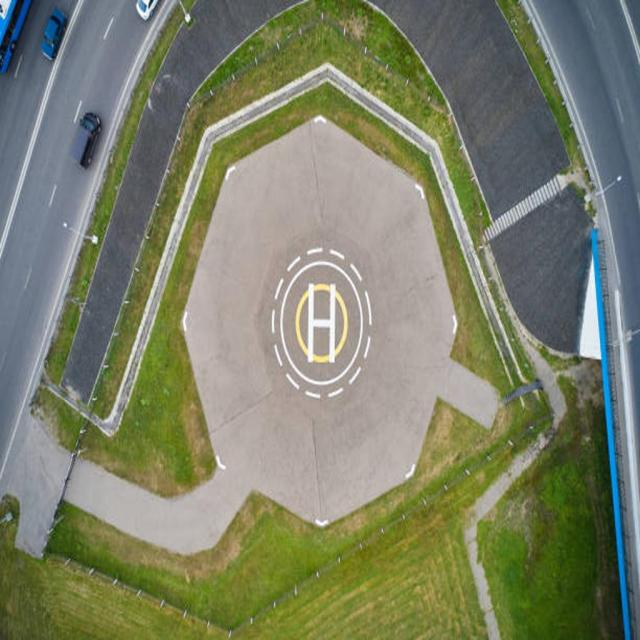helipad: (278, 259, 362, 384)
